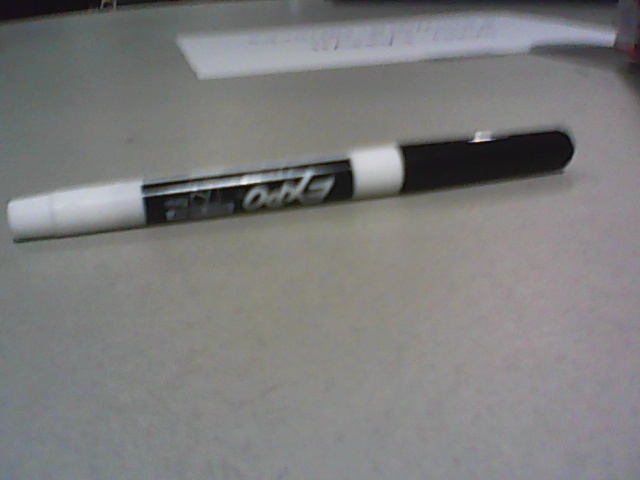marker: (7, 130, 575, 244)
